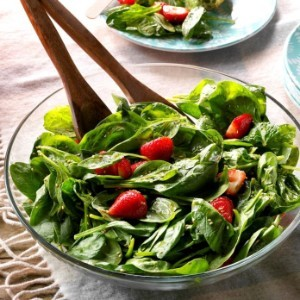spinach_brain food: (28, 92, 283, 244)
